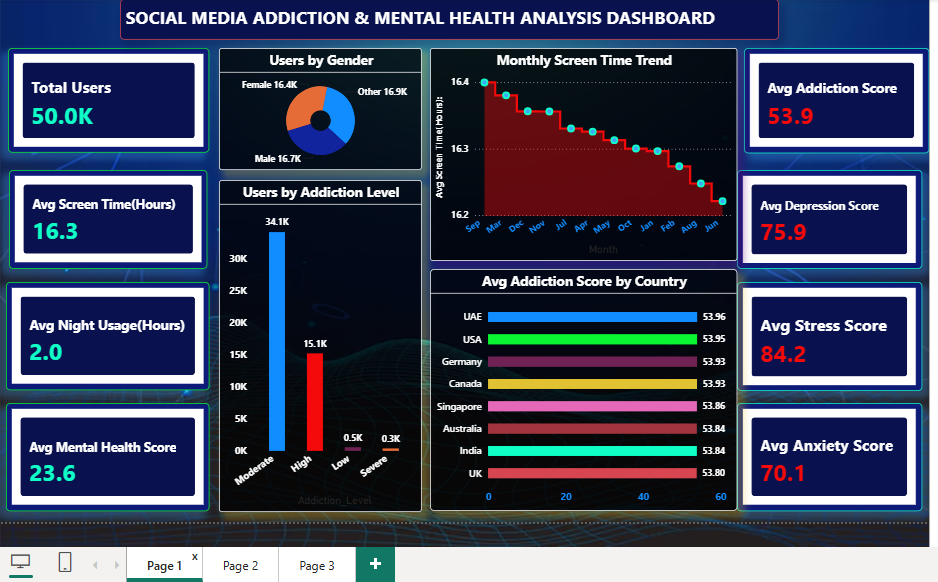

What the dashboard file says about the page in this screenshot:
{"tool":"powerbi","page":{"name":"Page 1","canvas":[1280,720],"ordinal":0},"visuals":[{"type":"cardVisual","fields":{"Data":["CountNonNull(SocialMedia.User_ID)"]},"box":[13,67.9,277.4,144.5],"z":0},{"type":"cardVisual","fields":{"Data":["Avg(SocialMedia.Addiction_Score)"]},"box":[1025.4,67.4,254.6,144.5],"z":1000},{"type":"cardVisual","fields":{"Data":["Avg(SocialMedia.Mental_Health_Score)"]},"box":[10.1,556.2,280.3,148.8],"z":2000},{"type":"cardVisual","fields":{"Data":["Avg(SocialMedia.Anxiety_Score)"]},"box":[1015.7,556,254.6,148.6],"z":3000},{"type":"cardVisual","fields":{"Data":["Avg(SocialMedia.Depression_Score)"]},"box":[1015.7,235.4,254.6,136.3],"z":4000},{"type":"textbox","box":[166.1,0,907.3,56.3],"z":5000},{"type":"cardVisual","fields":{"Data":["SocialMedia.Avg Screen Time(Hours)"]},"box":[14.4,235.5,273,135.8],"z":6000},{"type":"cardVisual","fields":{"Data":["SocialMedia.Avg Night Usage(Hours)"]},"box":[10.1,390.1,280.3,148.8],"z":7000},{"type":"cardVisual","fields":{"Data":["Avg(SocialMedia.Stress_Score)"]},"box":[1015.7,389.5,254.6,150],"z":8000},{"type":"donutChart","title":"Users by Gender","fields":{"Category":["SocialMedia.Gender"],"Y":["CountNonNull(SocialMedia.User_ID)"]},"box":[302.8,67.4,279.4,167.9],"z":9000},{"type":"clusteredColumnChart","title":"Users by Addiction Level","fields":{"Category":["SocialMedia.Addiction_Level"],"Y":["CountNonNull(SocialMedia.User_ID)"]},"box":[303.4,248.5,278.8,456.5],"z":10000},{"type":"lineChart","title":"Monthly Screen Time Trend","fields":{"Y":["Avg(SocialMedia.Total_Screen_Time(Hours))"],"Category":["SocialMedia.Month"]},"box":[593.2,67.4,422.5,293.2],"z":11000},{"type":"clusteredBarChart","title":"Avg Addiction Score by Country","fields":{"Category":["SocialMedia.Country"],"Y":["Avg(SocialMedia.Addiction_Score)"]},"box":[593.2,371.6,422.5,333.1],"z":12000}]}

Visuals, with their boxes on the page's 1280x720 design canvas (x1, y1, x2, y2). These are canvas units, not pixel positions in the 938x582 screenshot, which may show the page scaled, cropped or inside an application window:
cardVisual - CountNonNull(SocialMedia.User_ID): 13,68,290,212
cardVisual - Avg(SocialMedia.Addiction_Score): 1025,67,1280,212
cardVisual - Avg(SocialMedia.Mental_Health_Score): 10,556,290,705
cardVisual - Avg(SocialMedia.Anxiety_Score): 1016,556,1270,705
cardVisual - Avg(SocialMedia.Depression_Score): 1016,235,1270,372
textbox: 166,0,1073,56
cardVisual - SocialMedia.Avg Screen Time(Hours): 14,236,287,371
cardVisual - SocialMedia.Avg Night Usage(Hours): 10,390,290,539
cardVisual - Avg(SocialMedia.Stress_Score): 1016,390,1270,540
"Users by Gender" donutChart: 303,67,582,235
"Users by Addiction Level" clusteredColumnChart: 303,248,582,705
"Monthly Screen Time Trend" lineChart: 593,67,1016,361
"Avg Addiction Score by Country" clusteredBarChart: 593,372,1016,705
